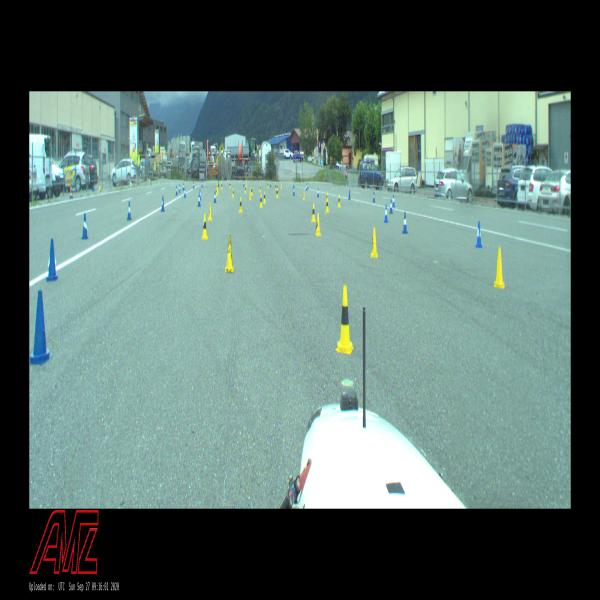blue_cone: (30, 290, 52, 365), (46, 239, 58, 282), (81, 213, 89, 239), (476, 220, 482, 248), (402, 212, 408, 234), (127, 201, 132, 220), (384, 204, 388, 223), (161, 196, 165, 211), (390, 198, 393, 215), (198, 189, 202, 200), (198, 193, 201, 207), (392, 195, 395, 208), (348, 189, 351, 200), (317, 188, 320, 198), (214, 190, 216, 203), (373, 191, 375, 203), (184, 187, 186, 198), (176, 185, 178, 196), (293, 186, 295, 196), (193, 182, 195, 189), (293, 182, 295, 189), (306, 183, 308, 190), (307, 182, 309, 189), (243, 180, 245, 187), (201, 181, 203, 187), (179, 184, 180, 193), (183, 183, 184, 191), (276, 186, 277, 194), (218, 180, 219, 187), (270, 181, 271, 187)
yellow_cone: (336, 284, 354, 354), (494, 246, 505, 289), (224, 234, 235, 272), (371, 226, 378, 258), (314, 212, 322, 236), (202, 213, 208, 240), (311, 203, 316, 222), (208, 202, 213, 221), (239, 196, 243, 213), (326, 197, 329, 213), (338, 194, 341, 207), (263, 191, 266, 204), (249, 189, 252, 201), (326, 191, 329, 202), (276, 188, 279, 199), (260, 194, 262, 207), (232, 187, 234, 198), (303, 189, 305, 200), (216, 187, 218, 196), (259, 184, 261, 192), (246, 180, 248, 188), (275, 183, 277, 190), (267, 182, 269, 188), (251, 185, 252, 196), (245, 185, 246, 193), (221, 180, 222, 188), (230, 180, 231, 188), (281, 182, 282, 189)
